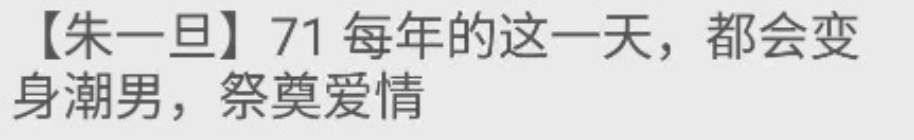TextView: (1, 1, 913, 139)
